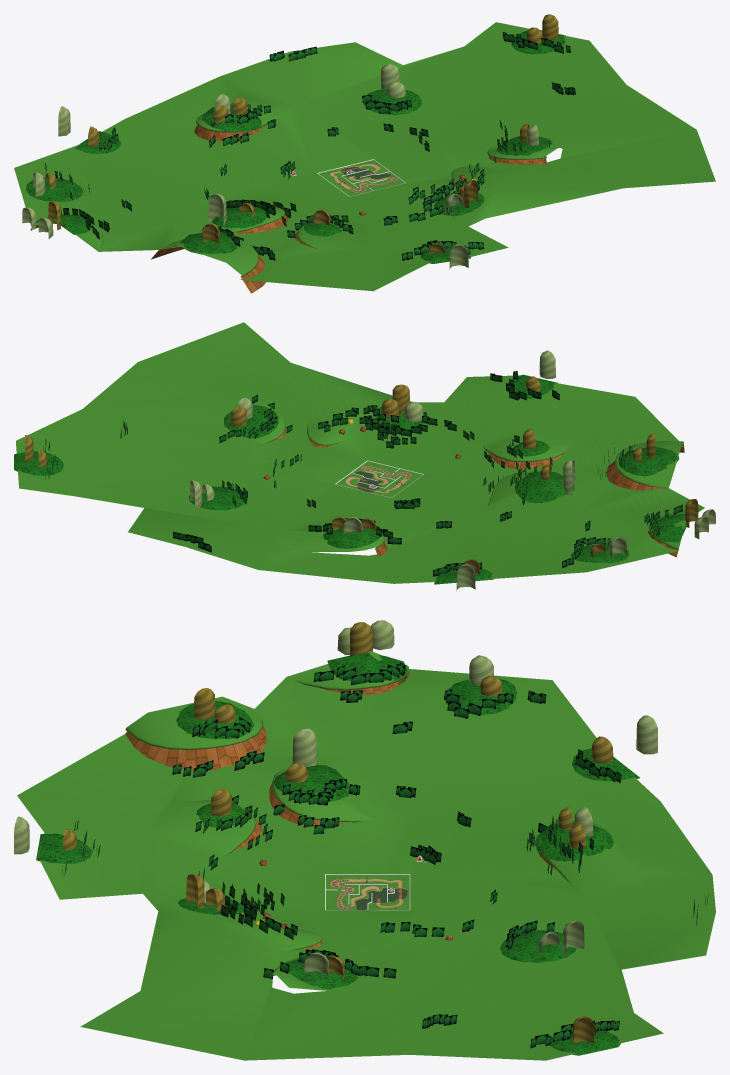
3 renders of one model, top to bottom at view 1: azimuth 30°, elevation 25°; view 2: azimuth 150°, elevation 25°; view 3: azimuth 270°, elevation 25°, orthographic. The views are drawn at different scales.
Parts seen in each view (by area): view 1: obj_grassMesh.005, obj_enkeiMesh.001, obj_plantbgMesh.001, obj_hillgreenMesh.001, obj_hillyellowMesh.001, obj_cliffMesh.004, obj_roadMesh.004; view 2: obj_grassMesh.005, obj_enkeiMesh.001, obj_plantbgMesh.001, obj_hillgreenMesh.001, obj_hillyellowMesh.001, obj_cliffMesh.004, obj_roadMesh.004, obj_blockMesh.002; view 3: obj_grassMesh.005, obj_plantbgMesh.001, obj_enkeiMesh.001, obj_hillyellowMesh.001, obj_hillgreenMesh.001, obj_cliffMesh.004, obj_roadMesh.004.
Boxes of the visible parts, x1,y1,x2,y2 form: obj_grassMesh.005: (14,22,715,291); obj_enkeiMesh.001: (26,30,565,263); obj_plantbgMesh.001: (45,32,575,260); obj_hillgreenMesh.001: (22,64,538,269); obj_hillyellowMesh.001: (45,14,558,253); obj_cliffMesh.004: (30,124,546,293); obj_roadMesh.004: (330,164,396,192); obj_grassMesh.005: (16,322,704,583); obj_enkeiMesh.001: (14,374,691,584); obj_plantbgMesh.001: (43,371,682,576); obj_hillgreenMesh.001: (190,350,715,590); obj_hillyellowMesh.001: (25,376,698,574); obj_cliffMesh.004: (273,424,684,557); obj_roadMesh.004: (345,465,411,493); obj_blockMesh.002: (335,460,423,497); obj_grassMesh.005: (17,651,715,1060); obj_plantbgMesh.001: (49,662,708,1048); obj_enkeiMesh.001: (36,652,639,1055); obj_hillyellowMesh.001: (62,622,613,1047); obj_hillgreenMesh.001: (14,620,657,977); obj_cliffMesh.004: (125,670,556,948); obj_roadMesh.004: (329,878,403,909).
Size of the model in its own units: 615269 by 55377 by 455970.
22 materials, 22 textured.
